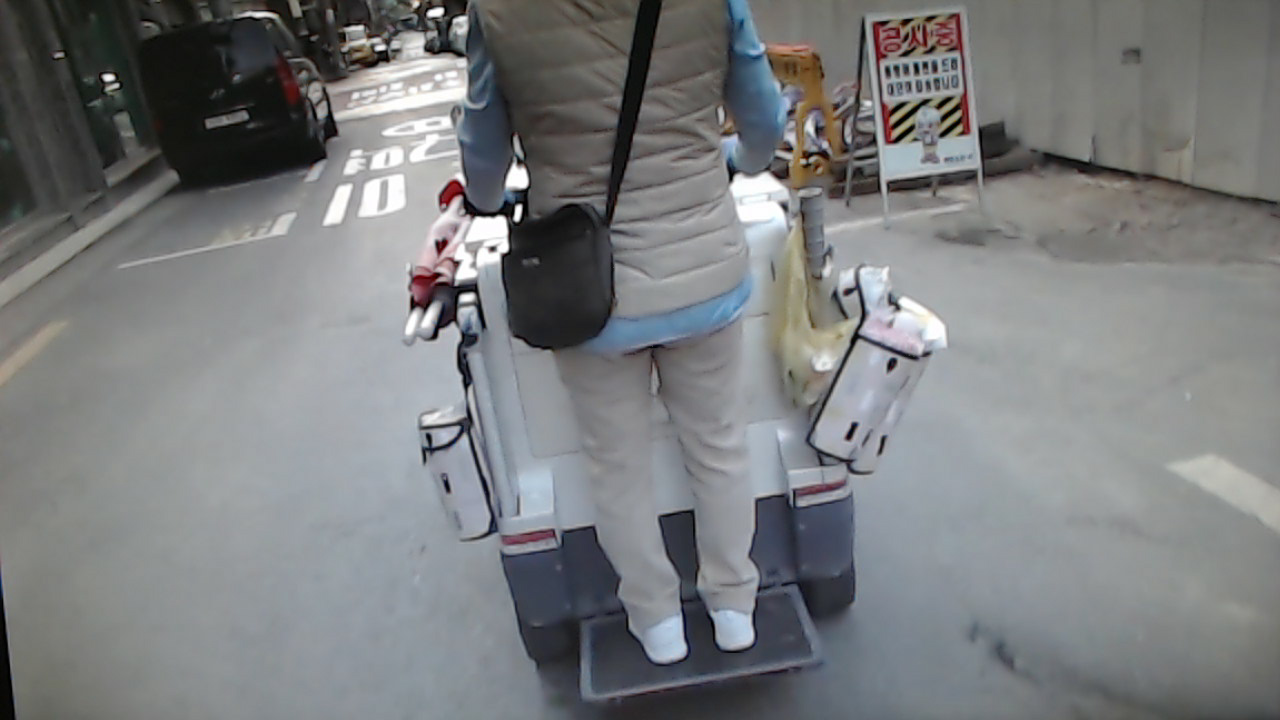Yakurut: (459, 4, 818, 680)
